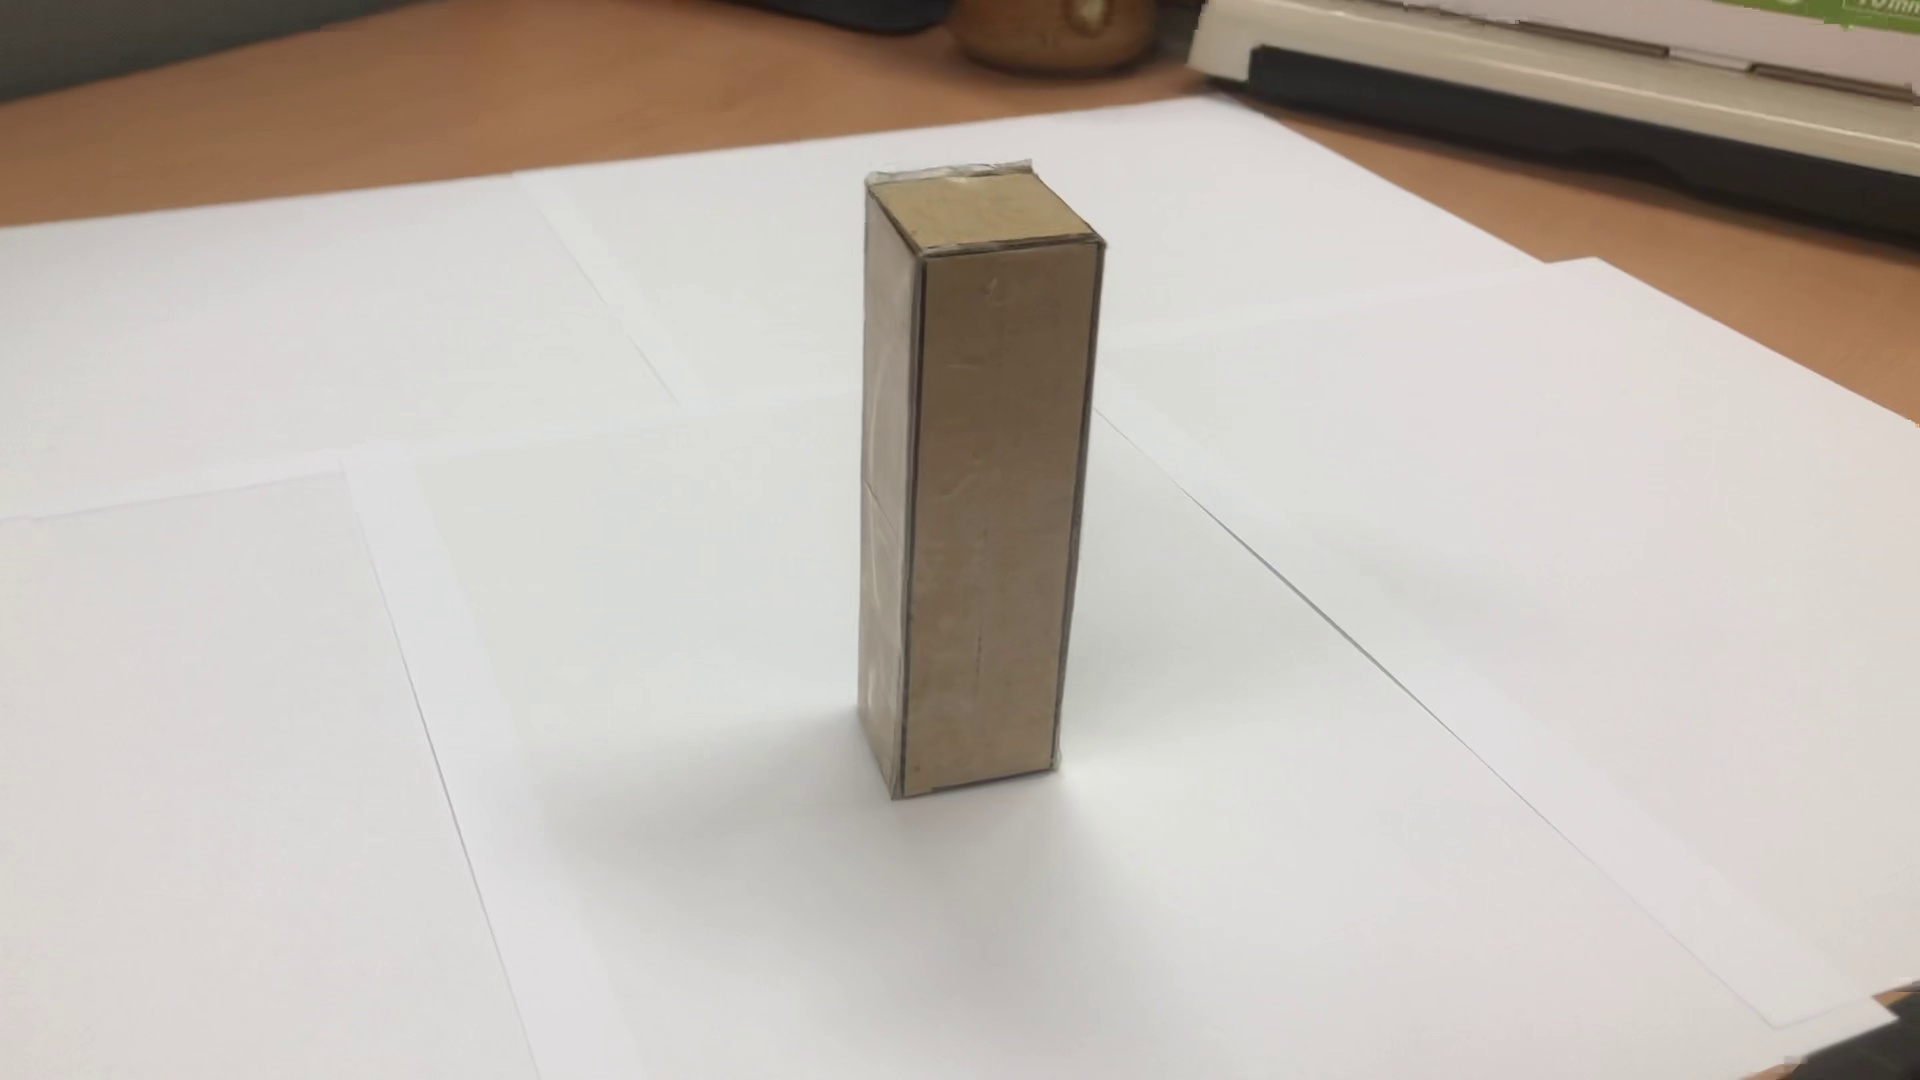box: (851, 138, 1122, 802)
